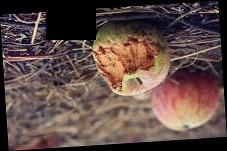rotten apple: (84, 20, 171, 97)
